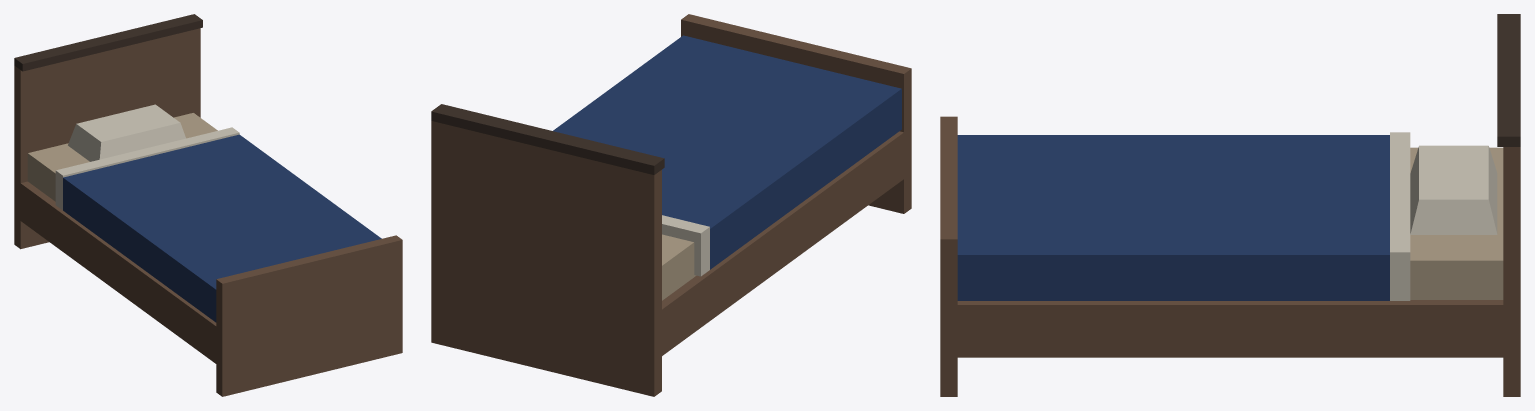
File: bed.glb
3 views of the same model, side by side, from view 1: azimuth 30°, elevation 25°; view 2: azimuth 150°, elevation 25°; view 3: azimuth 270°, elevation 25° (orthographic). The views are drawn at different scales.
Parts seen in each view (by area): view 1: Bed; view 2: Bed; view 3: Bed.
Boxes of the visible parts, <box> form: Bed: <box>14,14,402,396</box>; Bed: <box>431,14,911,396</box>; Bed: <box>940,14,1520,396</box>.
Bounding box in the file's own units: 1 × 0.99 × 2.
